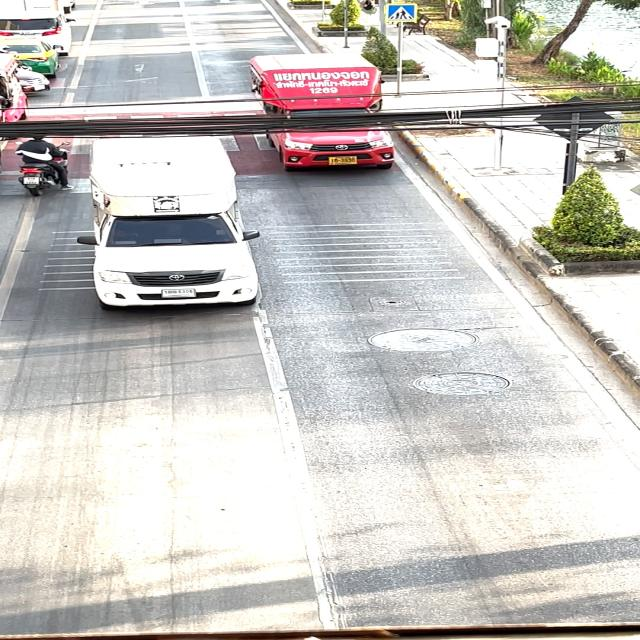car: (69, 122, 274, 320), (238, 45, 409, 182)
